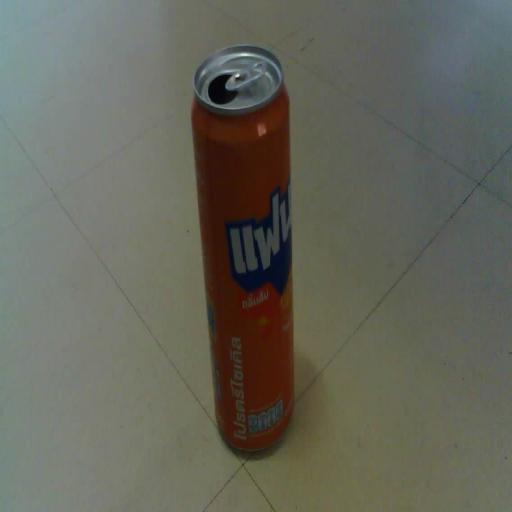canned: (184, 28, 306, 474)
